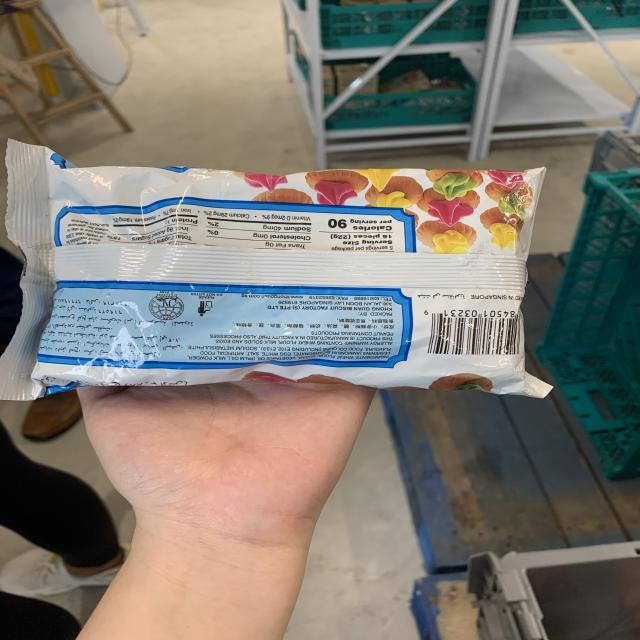object_name: (15, 159, 523, 395)
